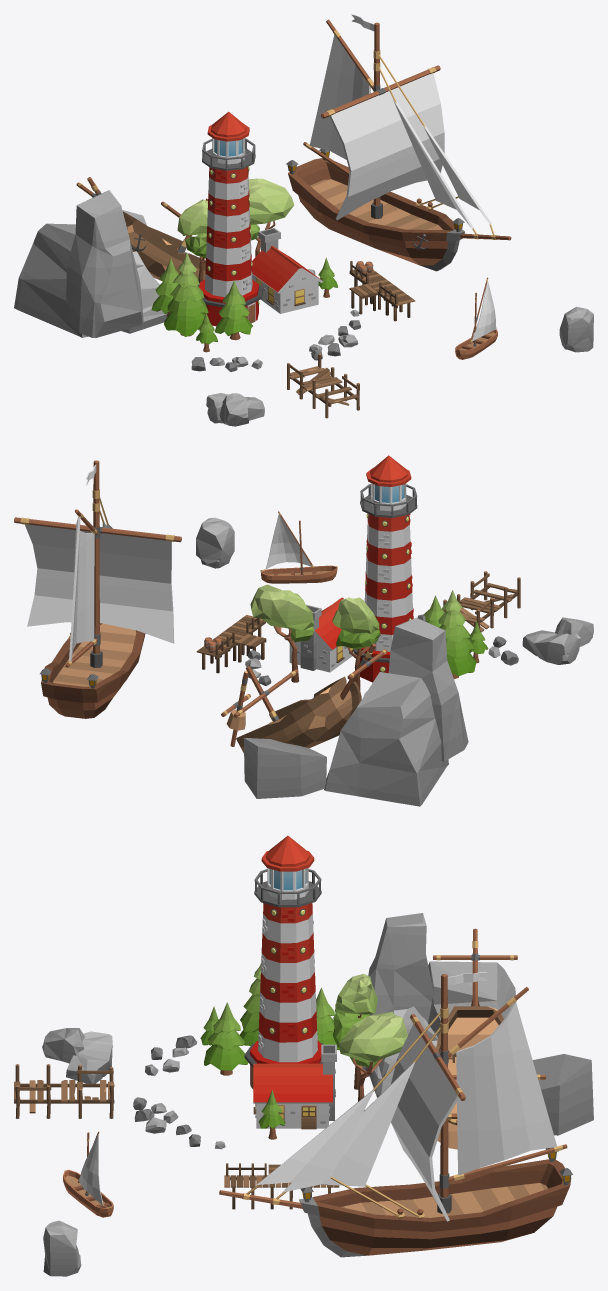
File: field_09.glb
The picture shows the model from 3 angles, top to bottom: view 1: azimuth 30°, elevation 25°; view 2: azimuth 150°, elevation 25°; view 3: azimuth 270°, elevation 25°; orthographic projection. The views are drawn at different scales.
Visible parts, largest first — view 1: ship_18, lighthouse_6, stone small 15_39, stone small 17_40, house_23, destroyed ship_25, fir tree large_27, tree 10_29, destroyed wooden pier_0, wooden pier 6_35, sailboat 4_34, tree 9_16 (+6 smaller); view 2: ship_18, stone small 17_40, lighthouse_6, destroyed ship_25, stone small 15_39, stone small 18_36, tree 10_29, sailboat 4_34, house_23, tree 9_16, fir tree large_27, wooden pier 6_35 (+4 smaller); view 3: ship_18, lighthouse_6, stone small 15_39, house_23, stone small 18_36, stone small 17_40, destroyed ship_25, tree 10_29, destroyed wooden pier_0, tree 9_16, sailboat 4_34, fir tree medium_33 (+8 smaller).
Boxes of the visible parts, box(x1,y1,x2,y2) form: ship_18: box(286, 14, 511, 271); lighthouse_6: box(197, 111, 263, 326); stone small 15_39: box(66, 190, 143, 337); stone small 17_40: box(14, 223, 87, 337); house_23: box(252, 227, 323, 313); destroyed ship_25: box(76, 177, 207, 281); fir tree large_27: box(164, 252, 208, 336); tree 10_29: box(248, 178, 294, 256); destroyed wooden pier_0: box(287, 353, 359, 418); wooden pier 6_35: box(349, 261, 415, 321); sailboat 4_34: box(455, 277, 497, 359); tree 9_16: box(177, 199, 207, 282); ship_18: box(14, 460, 181, 718); stone small 17_40: box(324, 672, 448, 806); lighthouse_6: box(353, 455, 417, 682); destroyed ship_25: box(221, 643, 387, 752); stone small 15_39: box(388, 618, 468, 761); stone small 18_36: box(243, 737, 326, 798); tree 10_29: box(250, 584, 314, 682); sailboat 4_34: box(260, 511, 337, 583); house_23: box(284, 597, 354, 672); tree 9_16: box(332, 597, 380, 690); fir tree large_27: box(438, 590, 476, 679); wooden pier 6_35: box(196, 615, 266, 673); ship_18: box(219, 972, 572, 1257); lighthouse_6: box(244, 835, 323, 1089); stone small 15_39: box(362, 913, 432, 1076); house_23: box(253, 1044, 336, 1129); stone small 18_36: box(532, 1054, 593, 1135); stone small 17_40: box(428, 961, 515, 1037); destroyed ship_25: box(433, 928, 546, 1149); tree 10_29: box(338, 1011, 407, 1110); destroyed wooden pier_0: box(14, 1064, 114, 1118); tree 9_16: box(333, 974, 377, 1089); sailboat 4_34: box(63, 1131, 113, 1217); fir tree medium_33: box(204, 1002, 248, 1075).
Size of the model in its own units: 18.19 by 10.42 by 18.47.
1 material, 1 textured.
